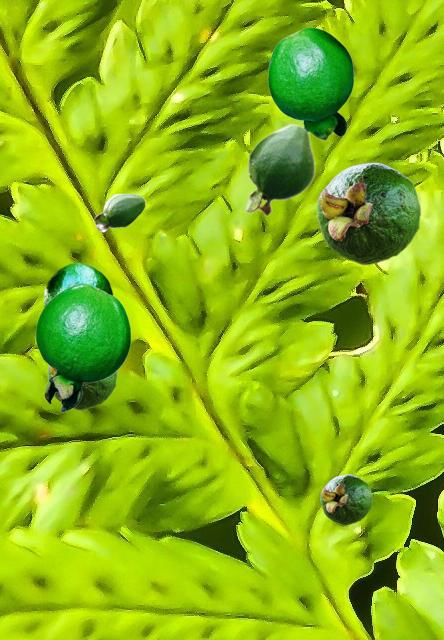guava: (35, 283, 130, 411), (316, 162, 420, 264), (267, 27, 353, 139), (245, 123, 314, 216), (43, 262, 112, 306), (47, 366, 116, 409), (320, 474, 371, 524), (94, 193, 145, 231)
